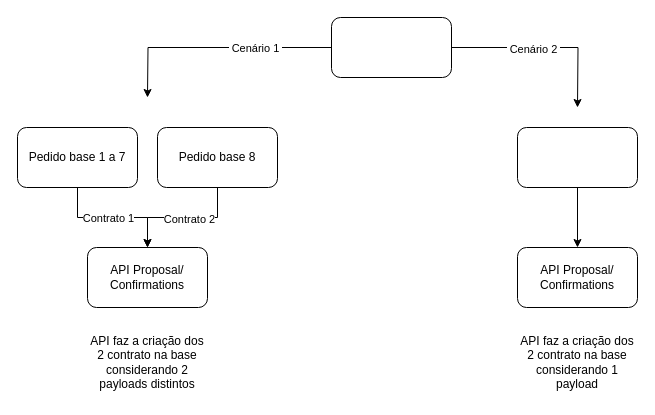
This 655x415 diagram has some shape labels left out. Each missing label, with the centre of its shape:
"Pedido base 1 a 8" belongs at point 577,157.
"Solar/OM" belongs at point 391,47.
